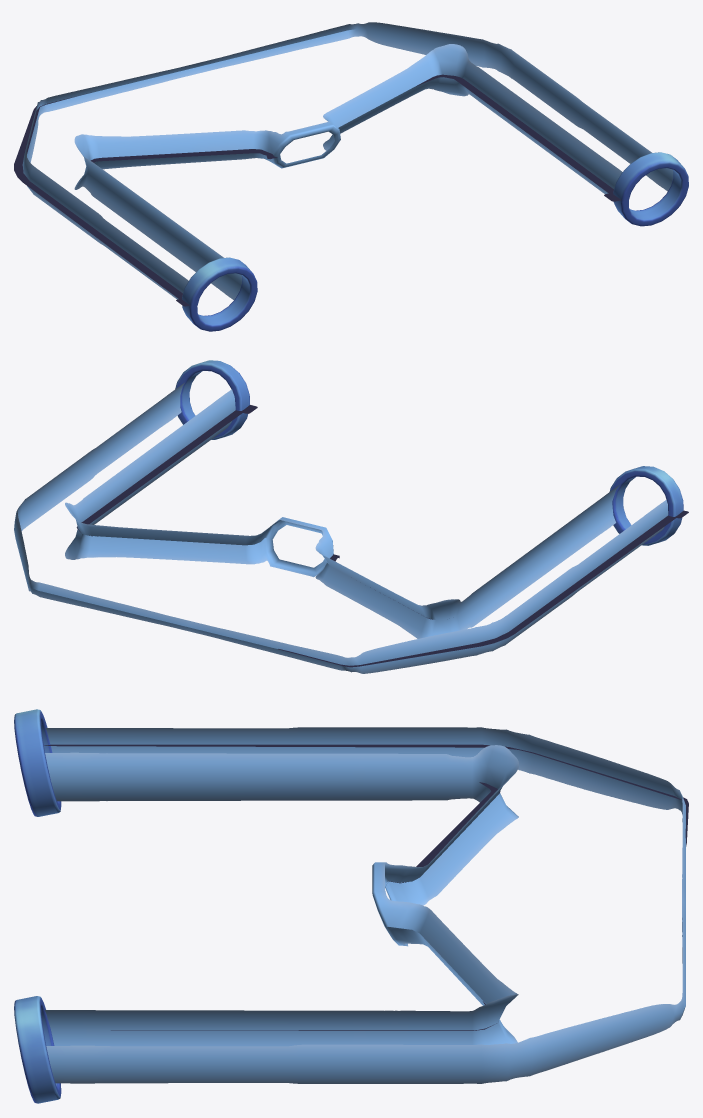
Rendered from Pipeline.fbx.
3 views of the same model, one above another, from view 1: azimuth 30°, elevation 25°; view 2: azimuth 150°, elevation 25°; view 3: azimuth 270°, elevation 25° (orthographic). The views are drawn at different scales.
Parts seen in each view (by area): view 1: Pipeline, polySurface2, Pipeline_Shadow3; view 2: Pipeline, polySurface2, Pipeline_Shadow3; view 3: Pipeline, polySurface2, Pipeline_Shadow3.
Boxes of the visible parts, x1,y1,x2,y2 form: Pipeline: [22, 22, 673, 299]; polySurface2: [182, 152, 688, 331]; Pipeline_Shadow3: [14, 74, 621, 306]; Pipeline: [14, 382, 668, 673]; polySurface2: [175, 360, 683, 545]; Pipeline_Shadow3: [76, 405, 688, 667]; Pipeline: [45, 727, 685, 1083]; polySurface2: [14, 709, 61, 1103]; Pipeline_Shadow3: [44, 744, 688, 1030].
Size of the model in its own units: 1047 by 151 by 890.
